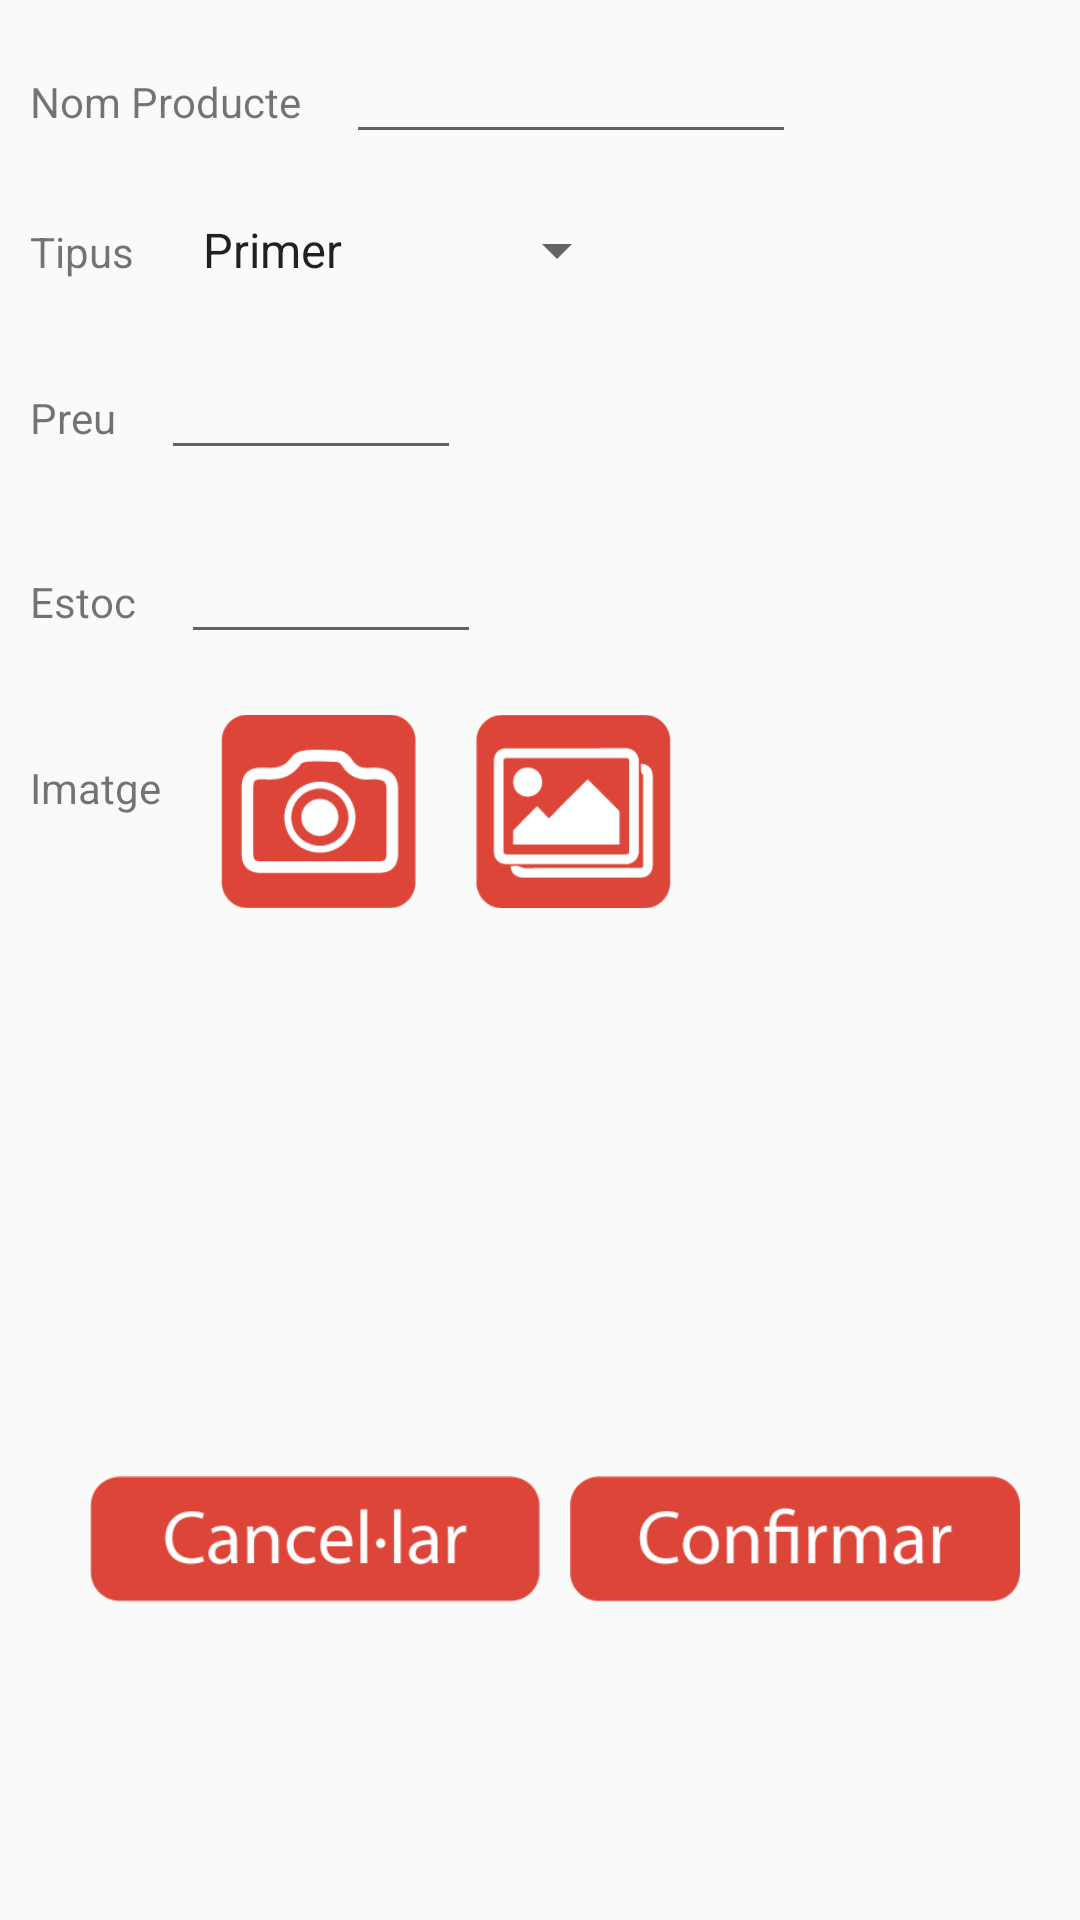

Point at icon controls on the screen. Image size 1080x1920, points as [x,y].
camera: [318,811]
galeria: [573,811]
